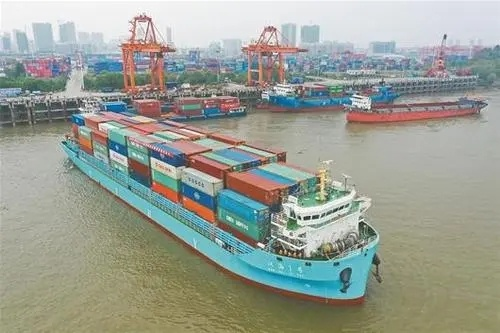Cargoship: (57, 97, 387, 310), (342, 85, 490, 127), (255, 71, 400, 113), (97, 92, 248, 118)
